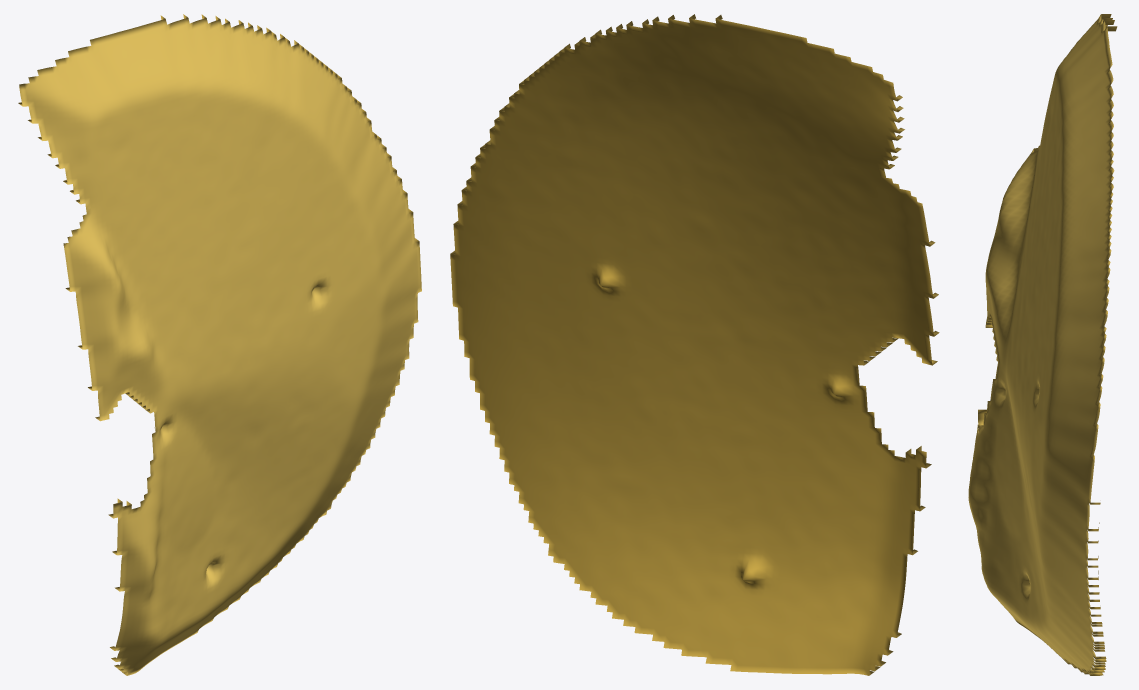
The model's file is PAIR-ARCH-PAD_RIGHT_addon.glb.
The picture shows the model from 3 angles, left to right: view 1: azimuth 30°, elevation 25°; view 2: azimuth 150°, elevation 25°; view 3: azimuth 270°, elevation 25°; orthographic projection. The views are drawn at different scales.
Visible parts, largest first — view 1: geometry_0; view 2: geometry_0; view 3: geometry_0.
Part boxes in pixels (box(x1,y1,x2,y2)): geometry_0: box(18, 14, 421, 675); geometry_0: box(450, 14, 939, 675); geometry_0: box(968, 14, 1117, 675).
Size of the model in its own units: 86 by 124 by 29.46.
